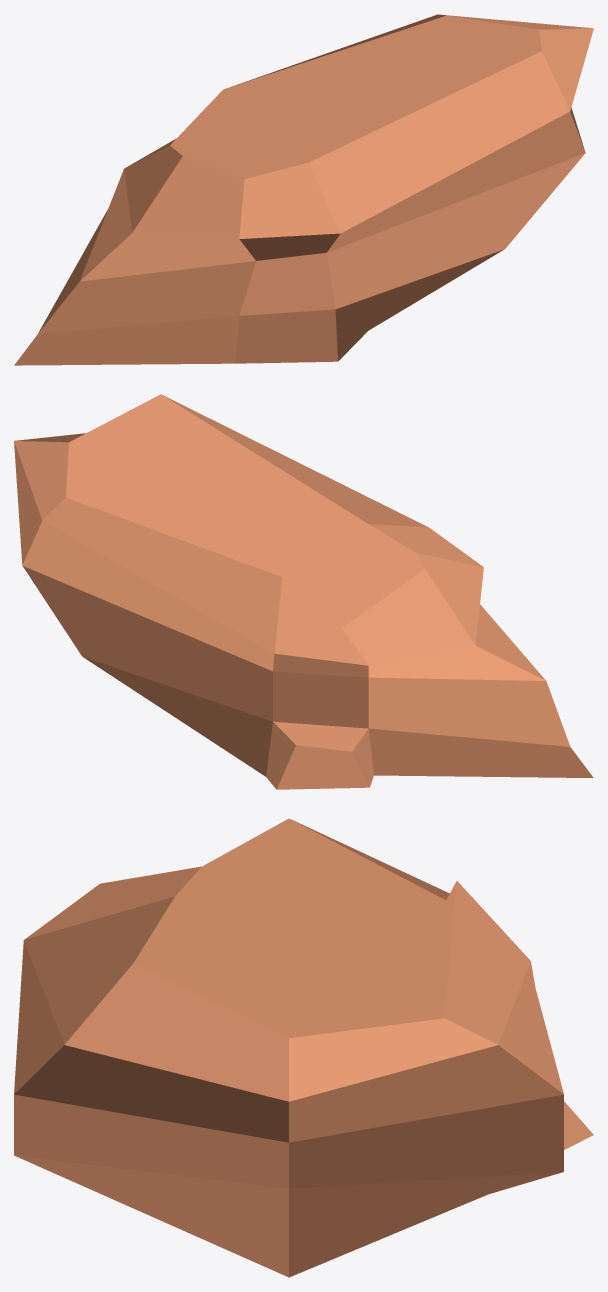
File: Stone007.fbx
3 renders of one model, top to bottom at view 1: azimuth 30°, elevation 25°; view 2: azimuth 150°, elevation 25°; view 3: azimuth 270°, elevation 25°, orthographic. The views are drawn at different scales.
Parts seen in each view (by area): view 1: Stone007; view 2: Stone007; view 3: Stone007.
Part boxes in pixels (x1,y1,x2,y2): Stone007: (14,14,593,365); Stone007: (14,394,593,789); Stone007: (14,818,593,1277).
Bounding box in the file's own units: 5.32 × 2.03 × 2.81.
